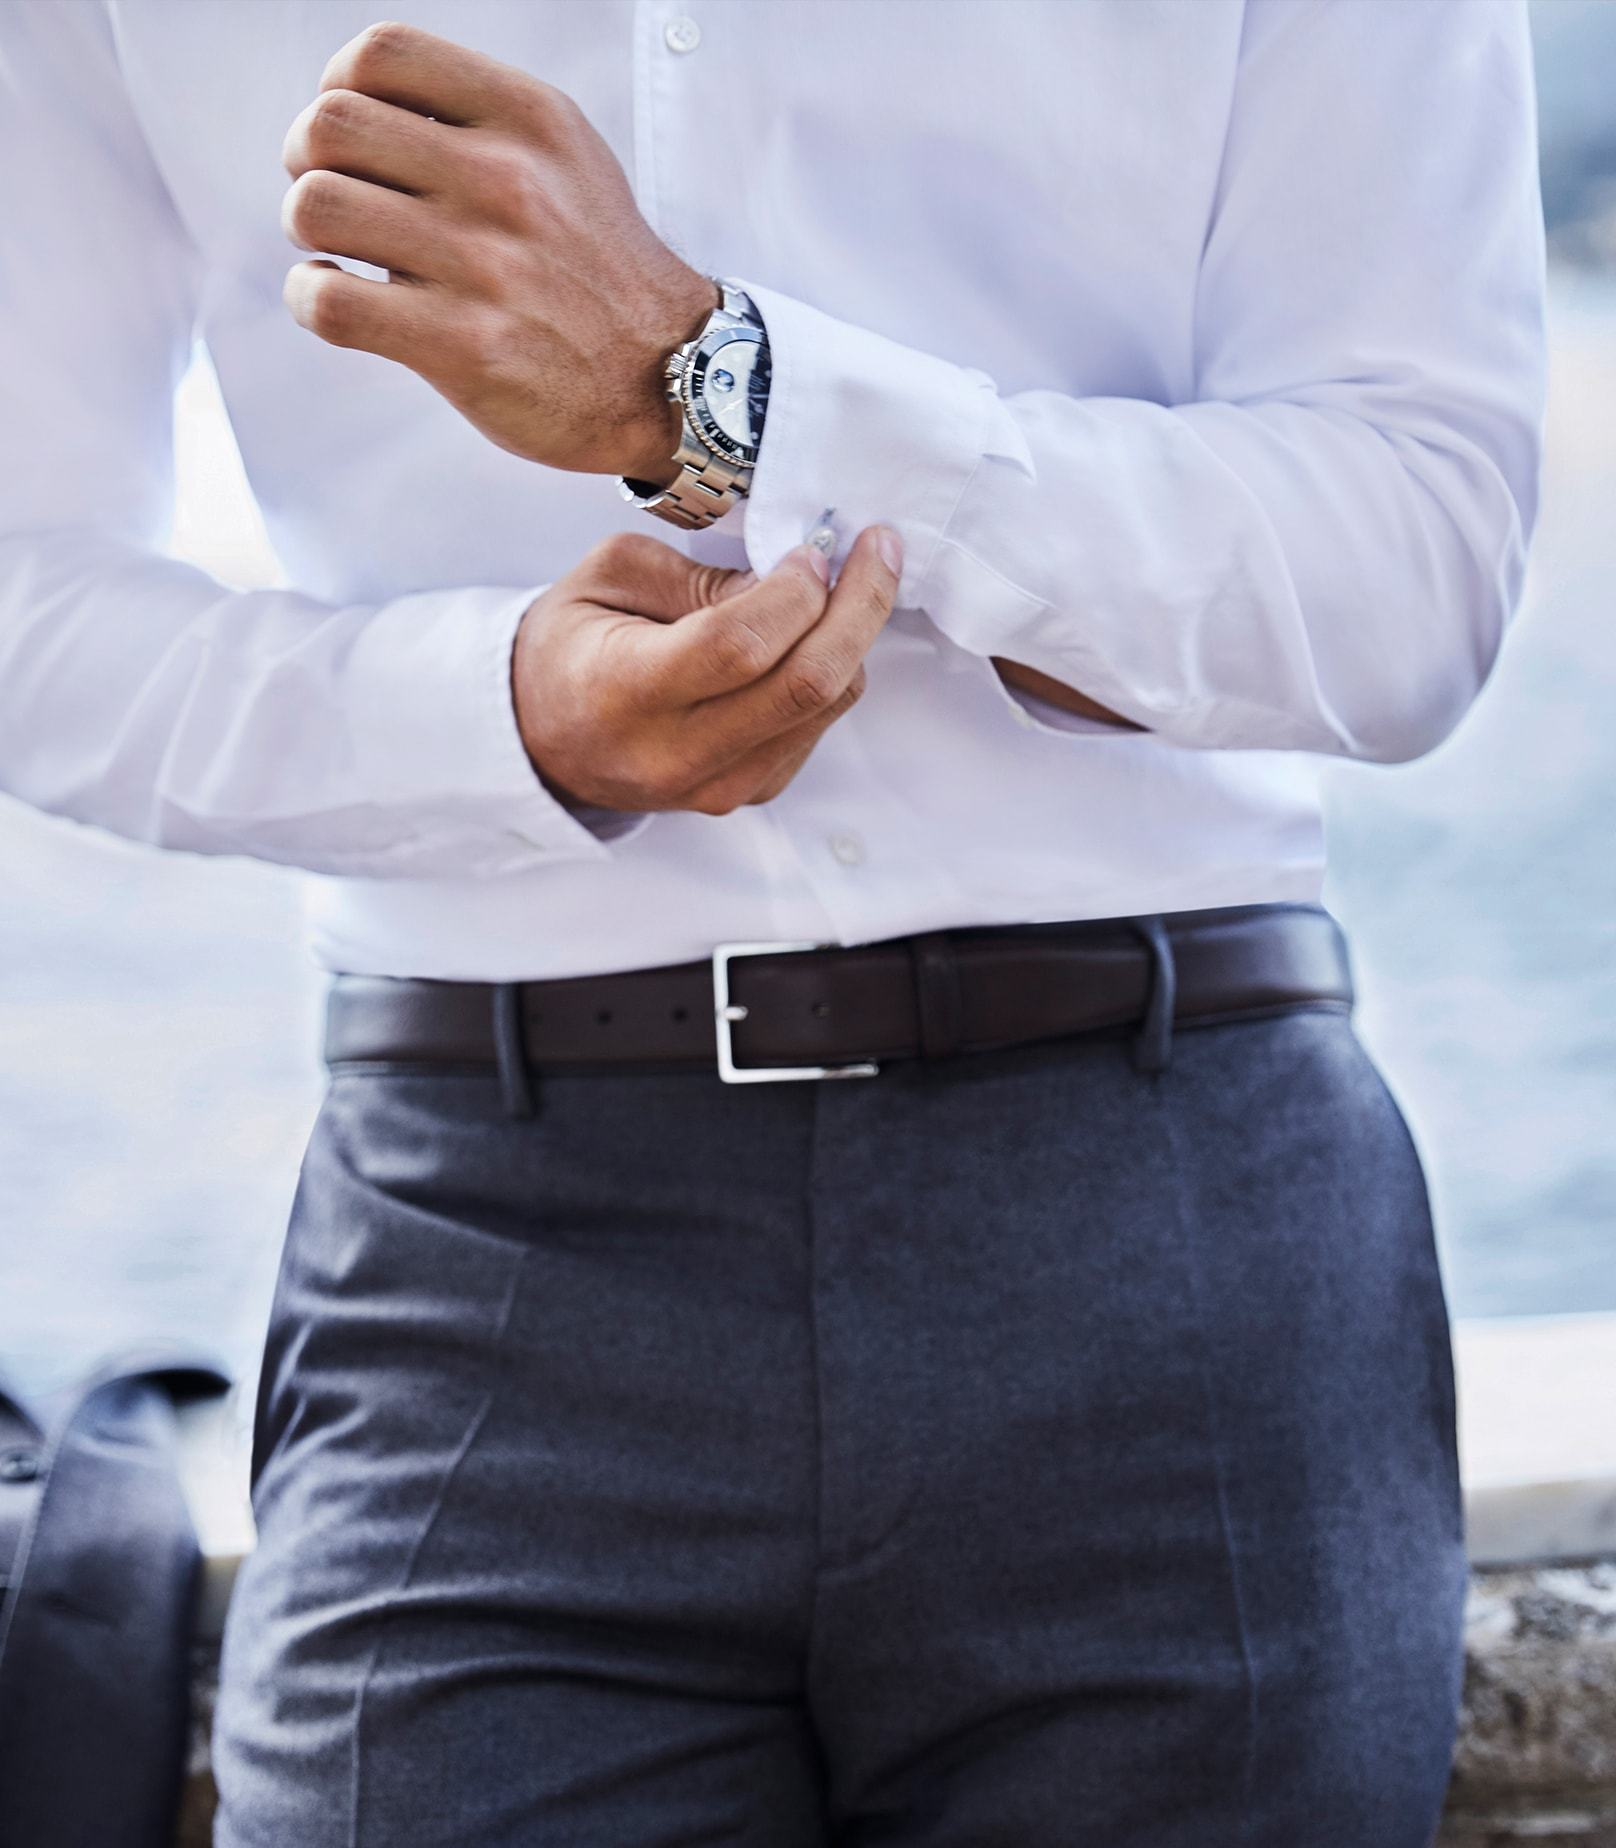F_belt: (286, 911, 1401, 1067)
F_dress pants: (217, 966, 1475, 1843)
